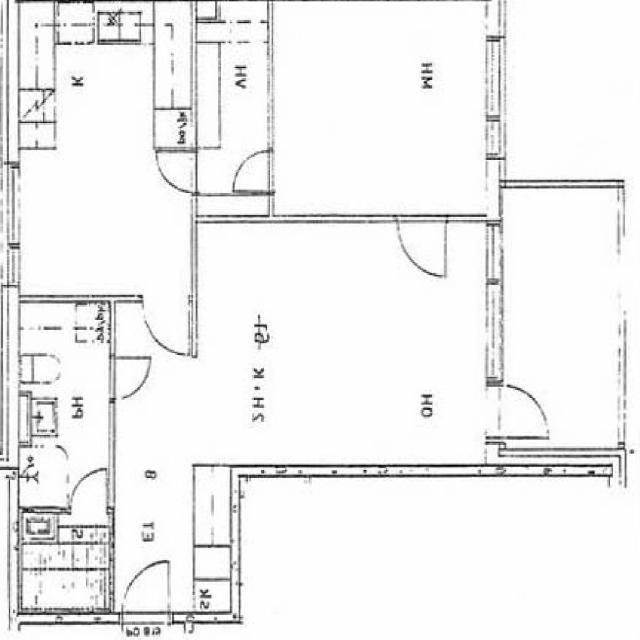door: (486, 385, 548, 437), (123, 559, 169, 623), (398, 215, 446, 276), (142, 295, 188, 353), (108, 358, 150, 398), (71, 467, 106, 512), (234, 151, 274, 190), (158, 152, 198, 190)
